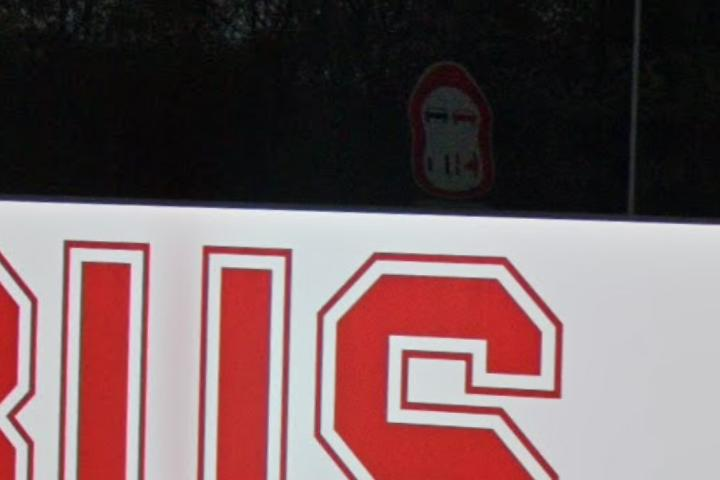traffic_sign: (407, 61, 494, 145), (408, 134, 498, 201)
